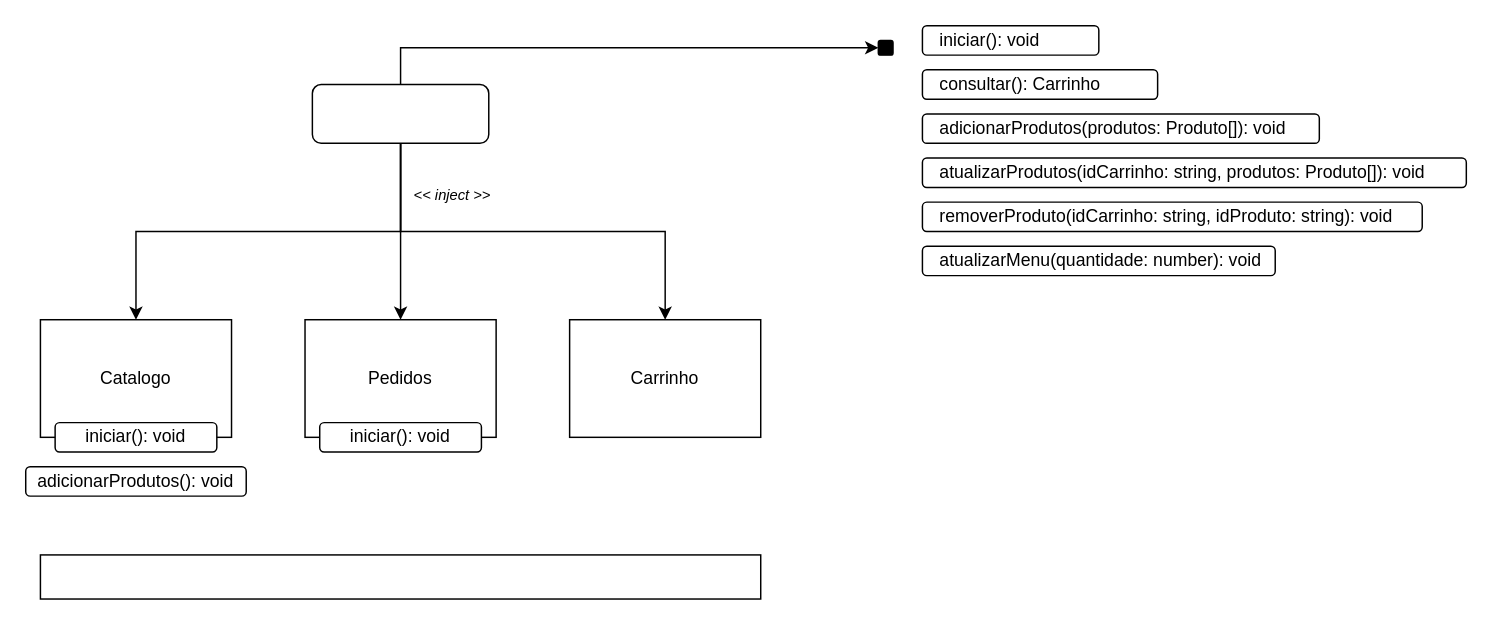
Image size: 1492x625. Some labels were removed from this diagram. The centre of each missing label's shape, as x and y in pixels:
"carrinhoService (js) remote" belongs at (400,113).
"Menu (carrinho)" belongs at (400,576).
